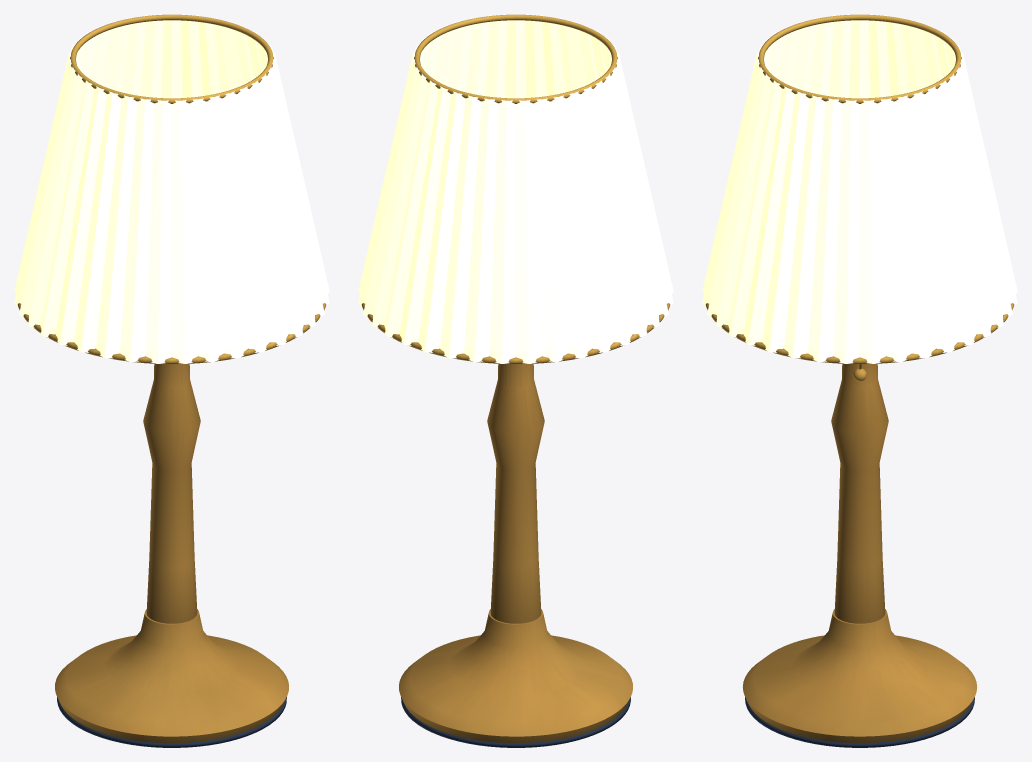
The model's file is frost_lamp.glb.
The picture shows the model from 3 angles, left to right: view 1: azimuth 30°, elevation 25°; view 2: azimuth 150°, elevation 25°; view 3: azimuth 270°, elevation 25°; orthographic projection.
Parts seen in each view (by area): view 1: frost_lamp; view 2: frost_lamp; view 3: frost_lamp.
Part boxes in pixels (box(x1,y1,x2,y2)): frost_lamp: box(14, 14, 329, 747); frost_lamp: box(358, 14, 673, 747); frost_lamp: box(702, 14, 1017, 747).
Bounding box in the file's own units: 41.73 × 93.8 × 41.73.
